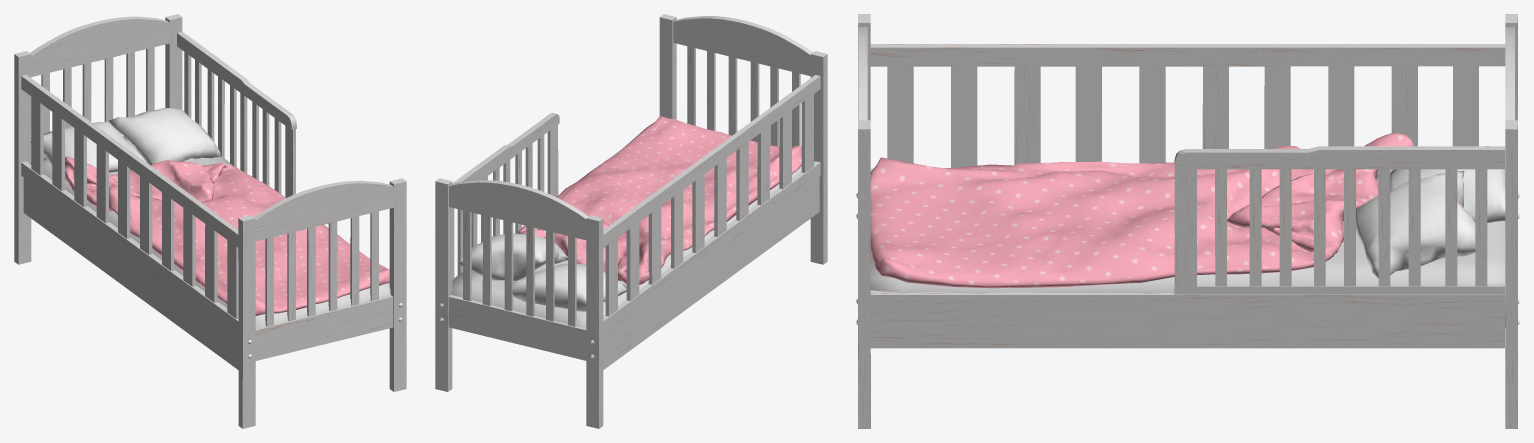
The model's file is SM_ChildBed_A1.fbx.
3 views of the same model, side by side, from view 1: azimuth 30°, elevation 25°; view 2: azimuth 150°, elevation 25°; view 3: azimuth 270°, elevation 25° (orthographic). The views are drawn at different scales.
Visible parts, largest first — view 1: SM_ChildBed_A1; view 2: SM_ChildBed_A1; view 3: SM_ChildBed_A1.
Part boxes in pixels (bbox=[...]): SM_ChildBed_A1: bbox=[14, 14, 406, 428]; SM_ChildBed_A1: bbox=[435, 14, 827, 428]; SM_ChildBed_A1: bbox=[856, 14, 1519, 428].
Size of the model in its own units: 81.21 by 195 by 103.
Materials: 1 (1 with a texture image).
